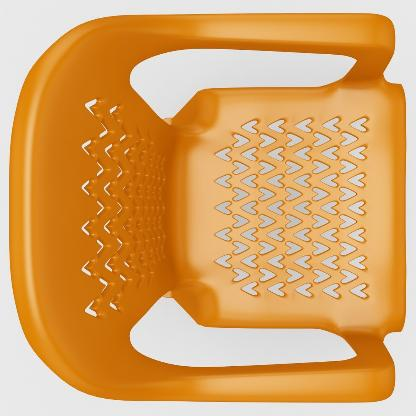chair: (4, 6, 412, 406)
